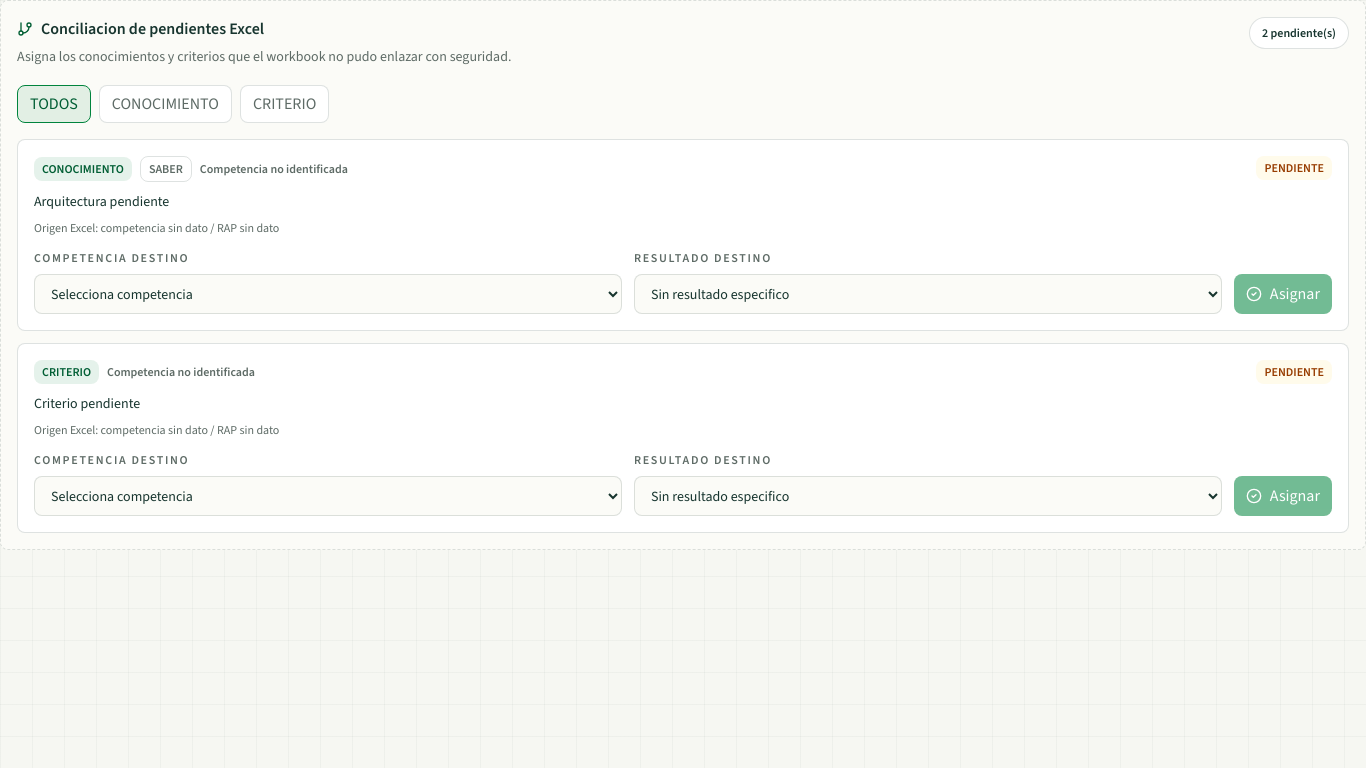
Test: ProgramaPendientesConciliacion › renders pending rows and filters by type
Expected: the text "Arquitectura pendiente" is shown, 34,192 -> 169,211
Expected: the text "Criterio pendiente" is shown, 34,394 -> 140,413
Click the button "CRITERIO": (285, 104) 240,85 -> 329,123
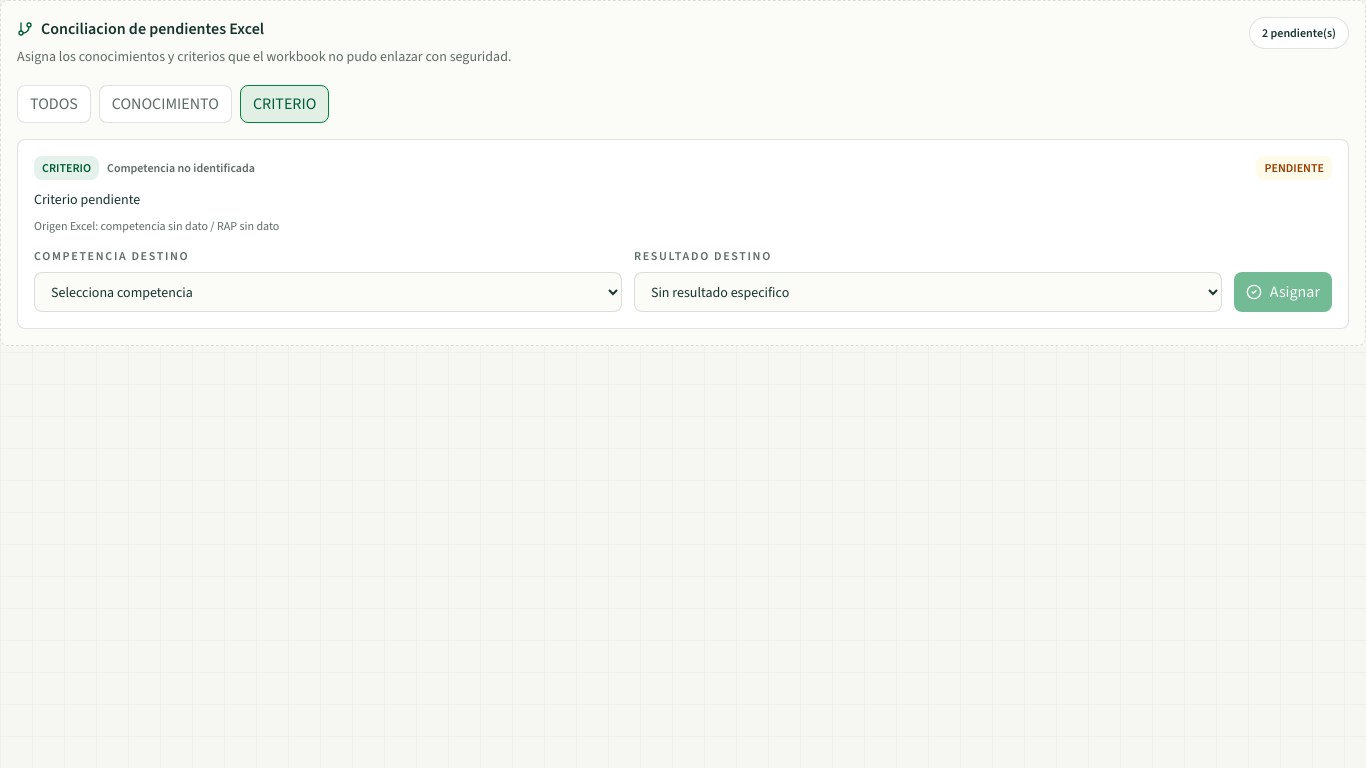
Expected: the text "Criterio pendiente" is shown, 34,190 -> 140,209
Expected: the text "Arquitectura pendiente" is gone
